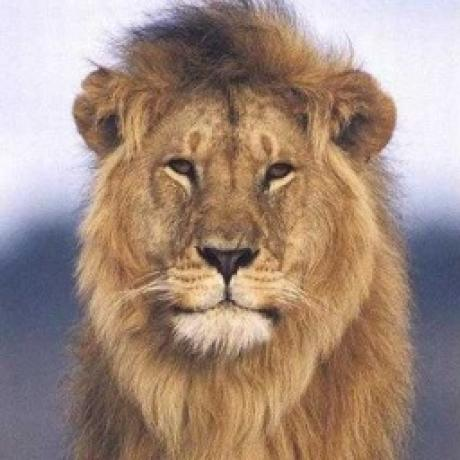Lion: (66, 1, 418, 460)
